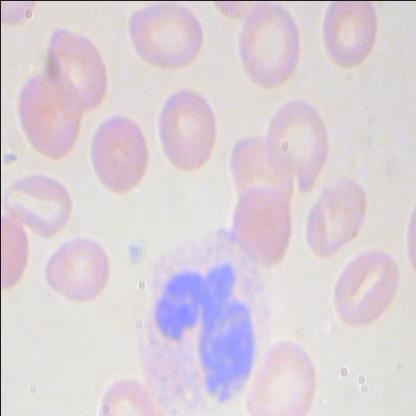RBC: (260, 92, 334, 196), (36, 21, 112, 115), (12, 65, 87, 159), (242, 325, 318, 415), (232, 1, 304, 91), (154, 82, 222, 174), (228, 175, 294, 269), (86, 108, 152, 201), (119, 1, 205, 72), (334, 247, 404, 332), (302, 172, 368, 256), (0, 162, 74, 236), (38, 230, 113, 303), (315, 1, 383, 72)
WBC: (120, 224, 274, 416)
